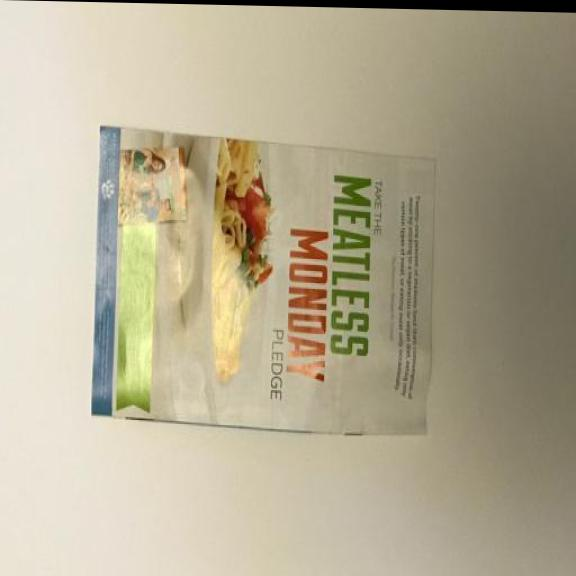Kertas: (91, 115, 437, 458)
